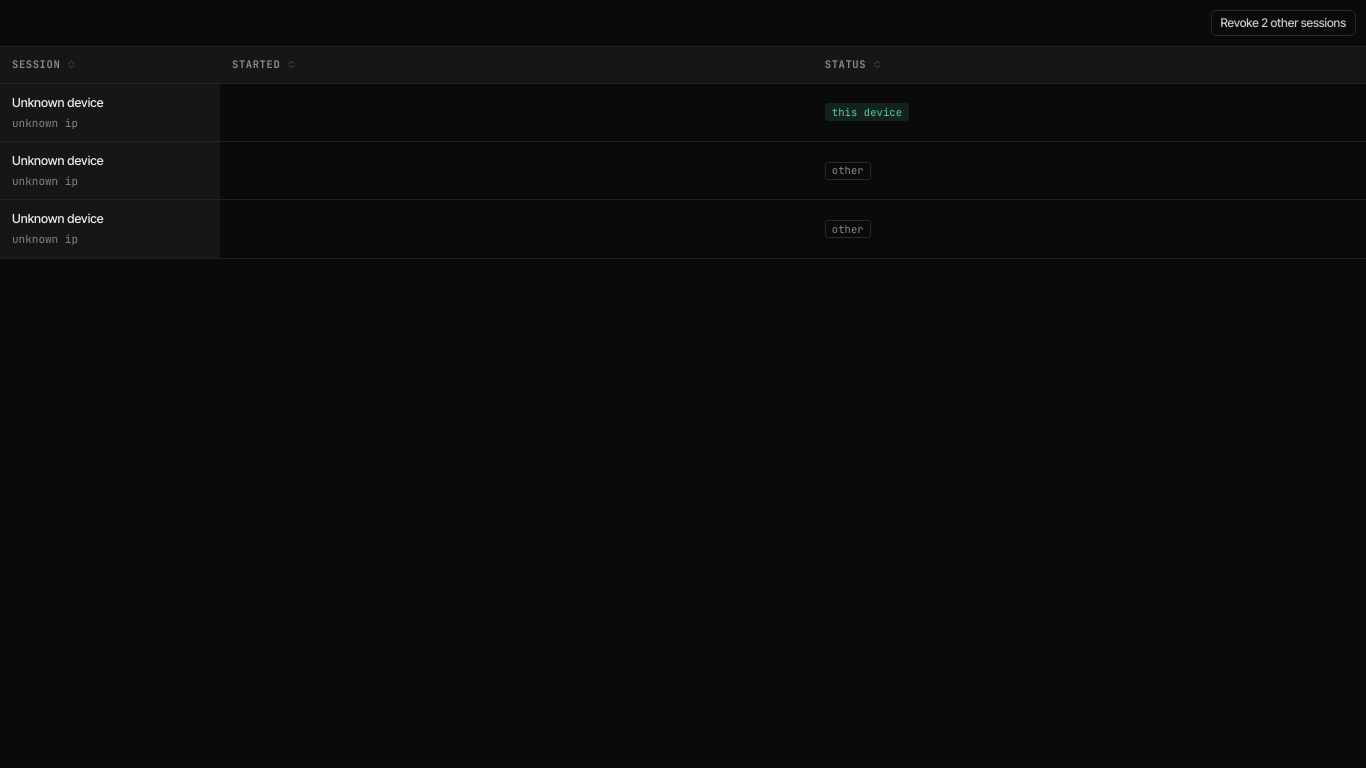
it: SessionsList revoke others › names AI connections, which are revoked too
Click the button "Revoke 2 other sessions": click(1283, 23) [1210,10,1356,36]
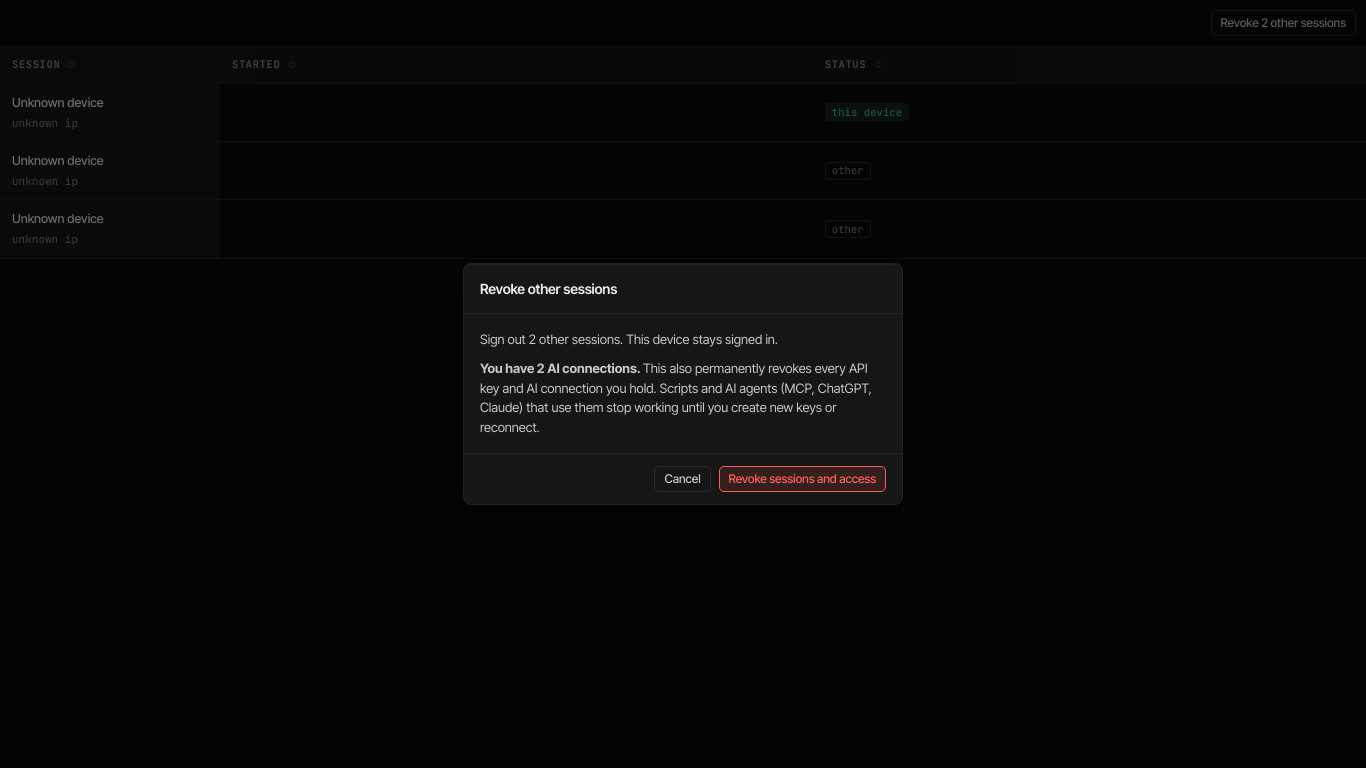
Expected: the dialog shows "You have 2 AI connections.", [480,360,640,376]
Expected: the button "Revoke sessions and access" is shown, [719,466,886,492]
